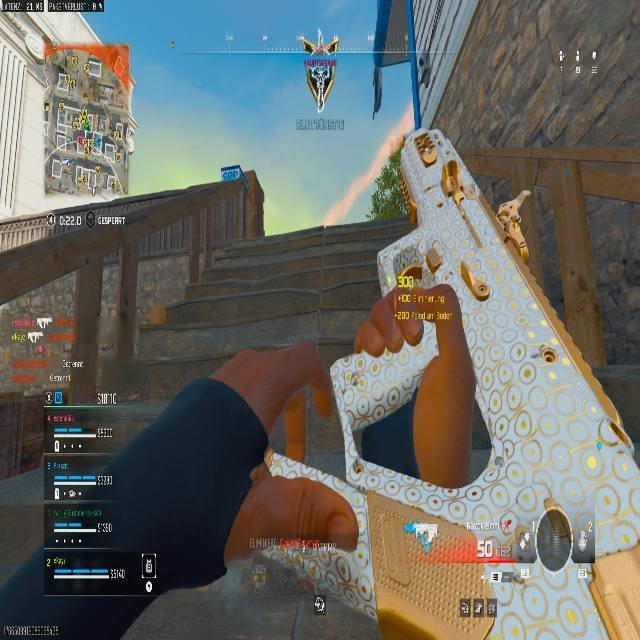player: (300, 37, 338, 110)
